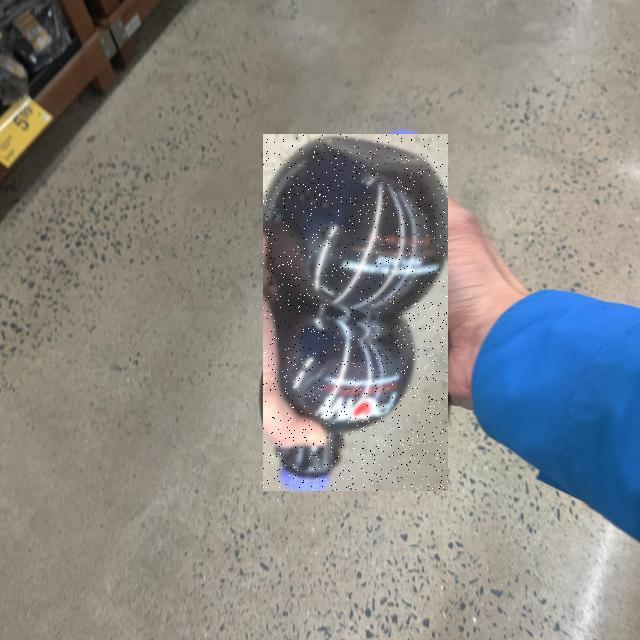Juice: (263, 134, 448, 491)
